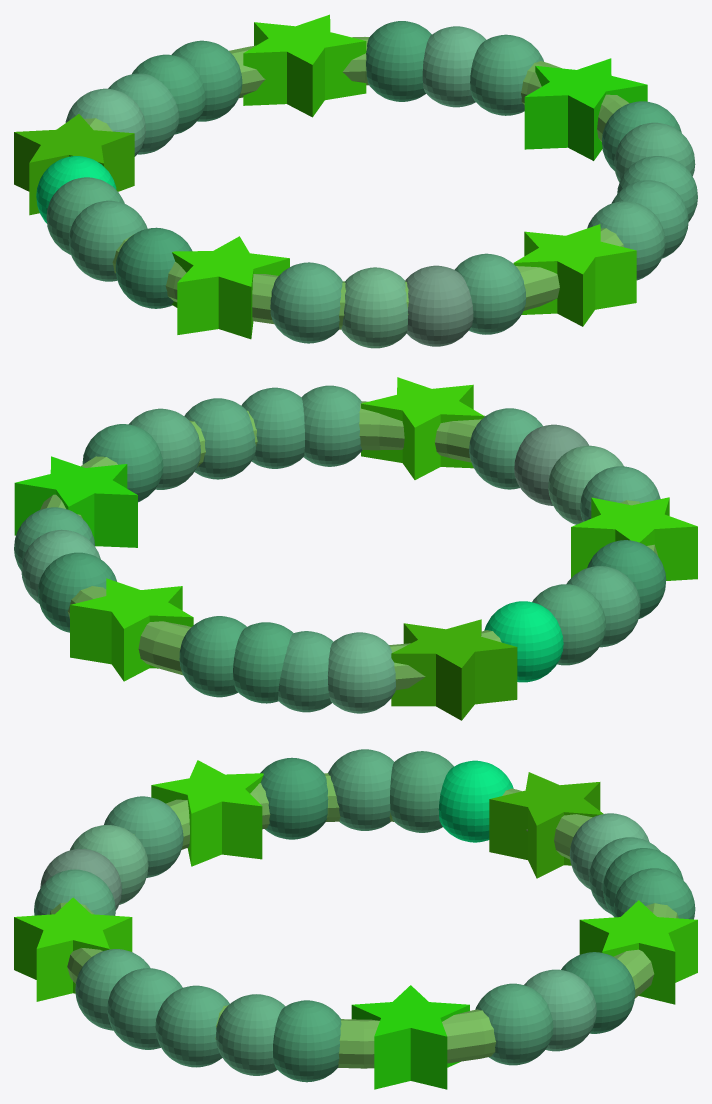
File: TaylorSwift.fbx
3 views of the same model, one above another, from view 1: azimuth 30°, elevation 25°; view 2: azimuth 150°, elevation 25°; view 3: azimuth 270°, elevation 25° (orthographic).
Visible parts, largest first — view 1: Torus.025; view 2: Torus.025; view 3: Torus.025.
Part boxes in pixels (<box>): Torus.025: <box>14,14,697,348</box>; Torus.025: <box>14,377,697,720</box>; Torus.025: <box>14,749,697,1089</box>.
Size of the model in its own units: 115 by 15.79 by 117.
